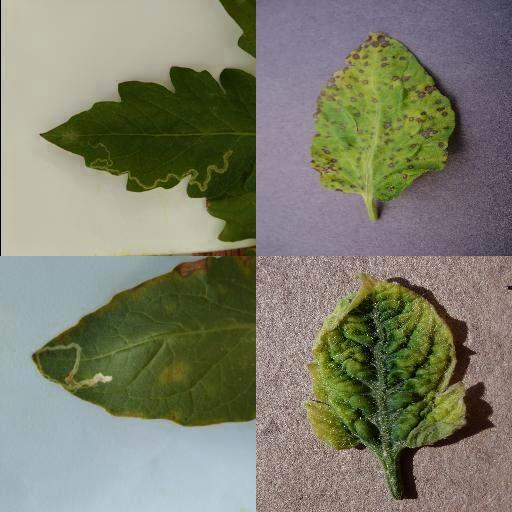Leaf Miner: (28, 256, 256, 427), (37, 65, 256, 197)
Septoria: (312, 31, 458, 203)
Yellow Leaf Curl Virus: (304, 272, 466, 448)
